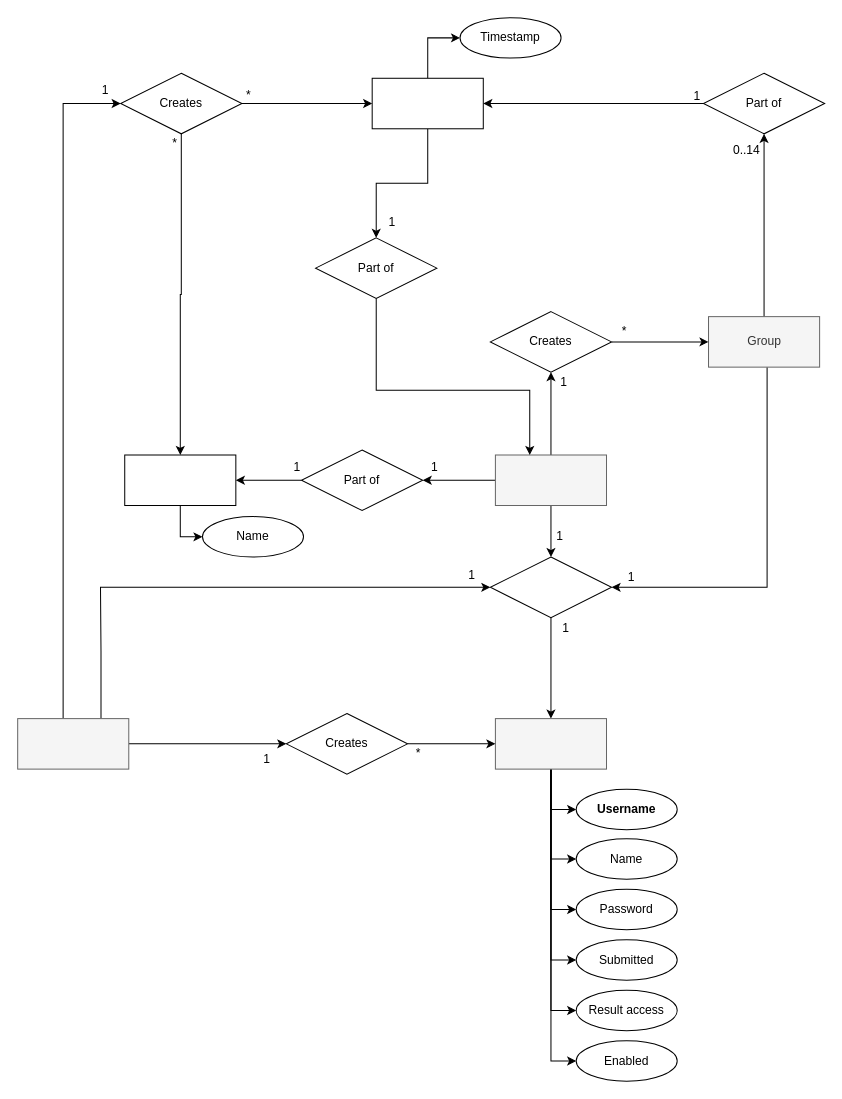
The diagram is 842 pixels wide and 1099 high, and some of its shapes have lost their labels. Here are the shapes that lost their labels. From the top down, the centre of each, then its label:
At (427,103): "Schedule".
At (180,480): "Institution".
At (550,480): "Instructor".
At (550,587): "Is".
At (73,743): "Administrator".
At (550,743): "User".
